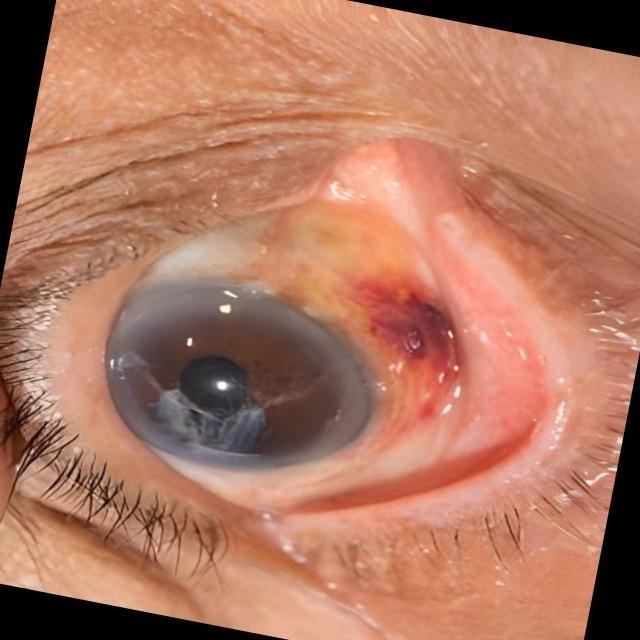Cataract: (62, 259, 380, 522)
